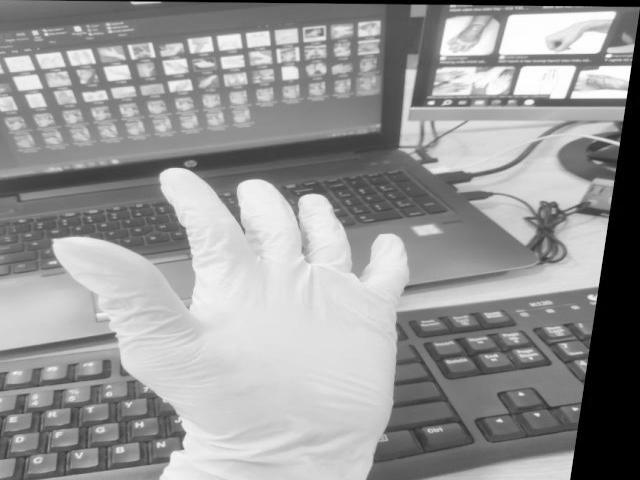gloved: (49, 166, 407, 480)
